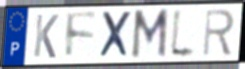F: (65, 11, 100, 62)
K: (32, 13, 60, 61)
L: (168, 6, 198, 61)
M: (129, 7, 171, 62)
R: (201, 8, 237, 59)
X: (98, 10, 134, 60)
